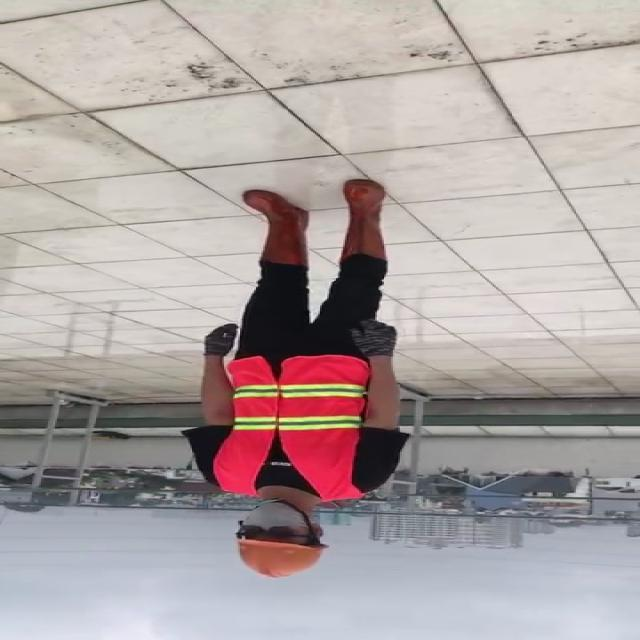Boots: (242, 189, 314, 265), (335, 179, 393, 262)
Glasses: (232, 523, 304, 541)
Gloves: (347, 317, 400, 358), (203, 321, 238, 356)
Helmet: (230, 539, 330, 579)
Vest: (210, 354, 377, 501)
